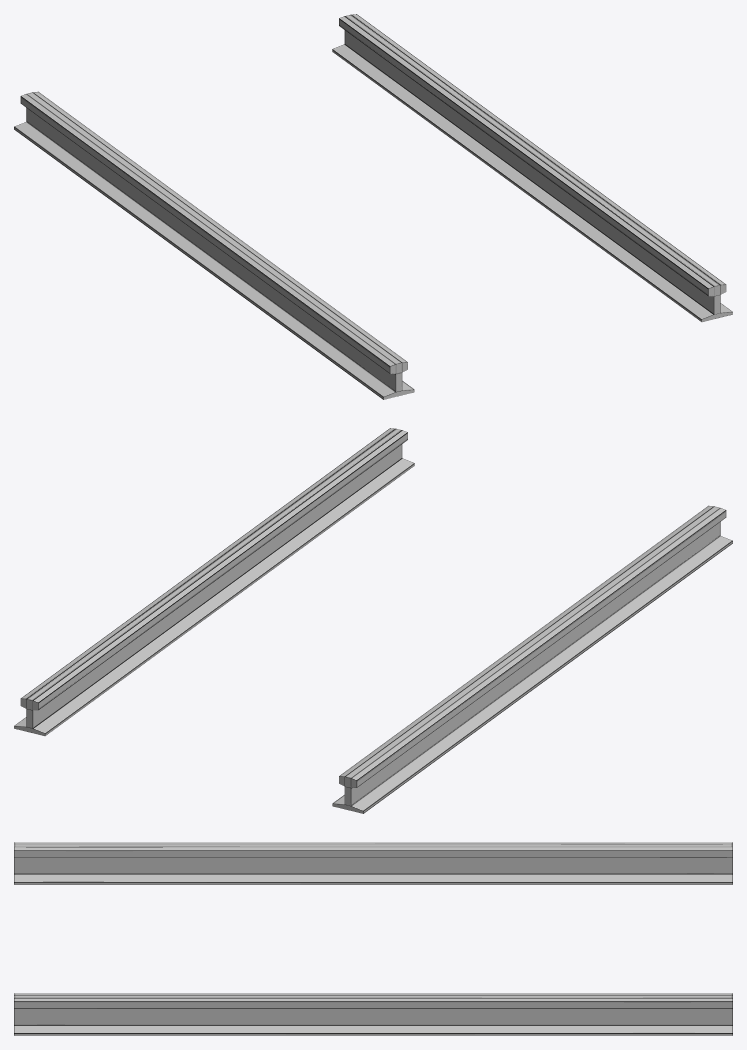
Rendered from Rail.fbx.
3 renders of one model, top to bottom at view 1: azimuth 30°, elevation 25°; view 2: azimuth 150°, elevation 25°; view 3: azimuth 270°, elevation 25°, orthographic. The views are drawn at different scales.
Visible parts, largest first — view 1: RailMesh; view 2: RailMesh; view 3: RailMesh.
Boxes of the visible parts, box(x1,y1,x2,y2) form: RailMesh: box(14, 14, 732, 399); RailMesh: box(14, 428, 732, 813); RailMesh: box(14, 842, 732, 1035).
Bounding box in the file's own units: 605 × 53.84 × 1108.
Materials: 1 (1 with a texture image).
